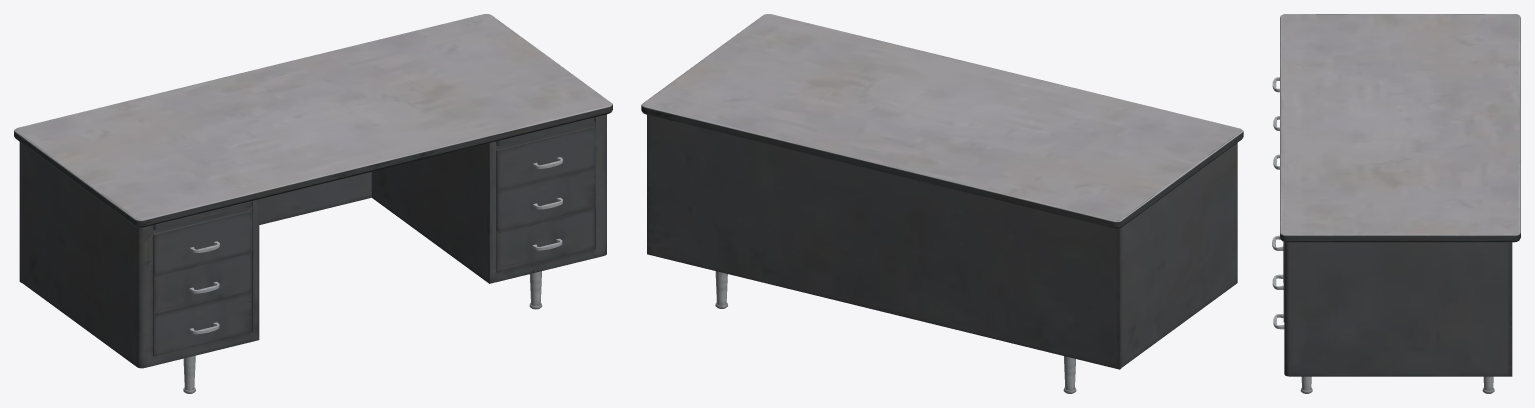
File: ph-metal_office_desk.glb
3 renders of one model, left to right at view 1: azimuth 30°, elevation 25°; view 2: azimuth 150°, elevation 25°; view 3: azimuth 270°, elevation 25°, orthographic. The views are drawn at different scales.
Visible parts, largest first — view 1: metal_office_desk_drawer_06; view 2: metal_office_desk_drawer_06; view 3: metal_office_desk_drawer_06.
Part boxes in pixels (x1,y1,x2,y2): metal_office_desk_drawer_06: [14, 14, 612, 393]; metal_office_desk_drawer_06: [641, 14, 1243, 393]; metal_office_desk_drawer_06: [1272, 14, 1520, 393].
Bounding box in the file's own units: 1 × 0.3937 × 0.4735.
Materials: 1 (1 with a texture image).
